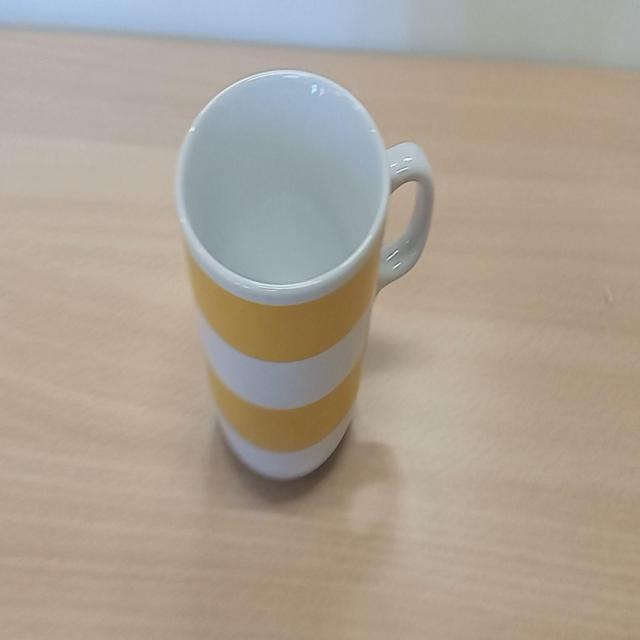cup: (174, 69, 436, 490)
